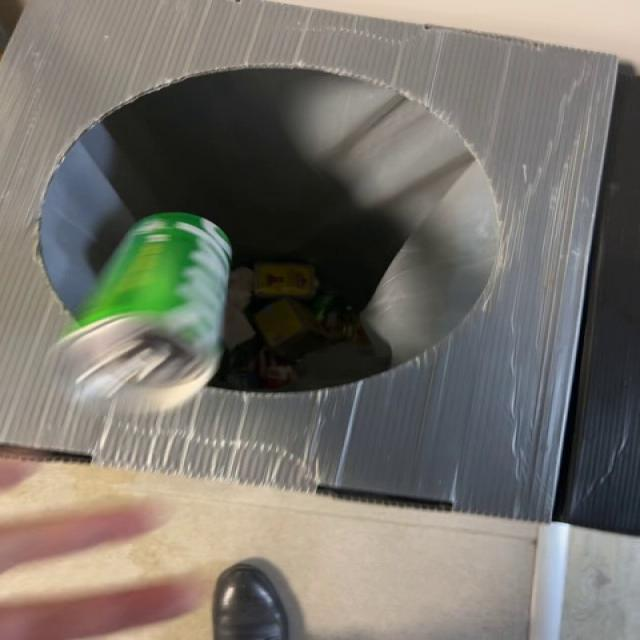Bin: (3, 0, 617, 522)
Metal: (56, 213, 231, 412)
